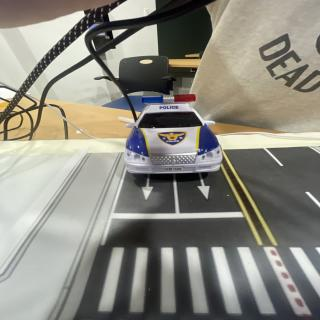Police_car: (124, 94, 222, 173)
